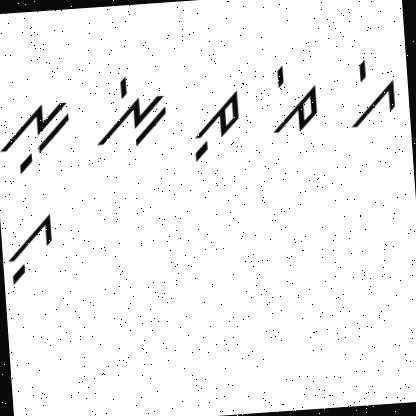ge: (340, 57, 400, 132)
gu: (3, 207, 62, 286)
nge: (93, 70, 171, 150)
ngu: (0, 95, 75, 175)
te: (264, 63, 323, 142)
tu: (186, 84, 245, 162)
